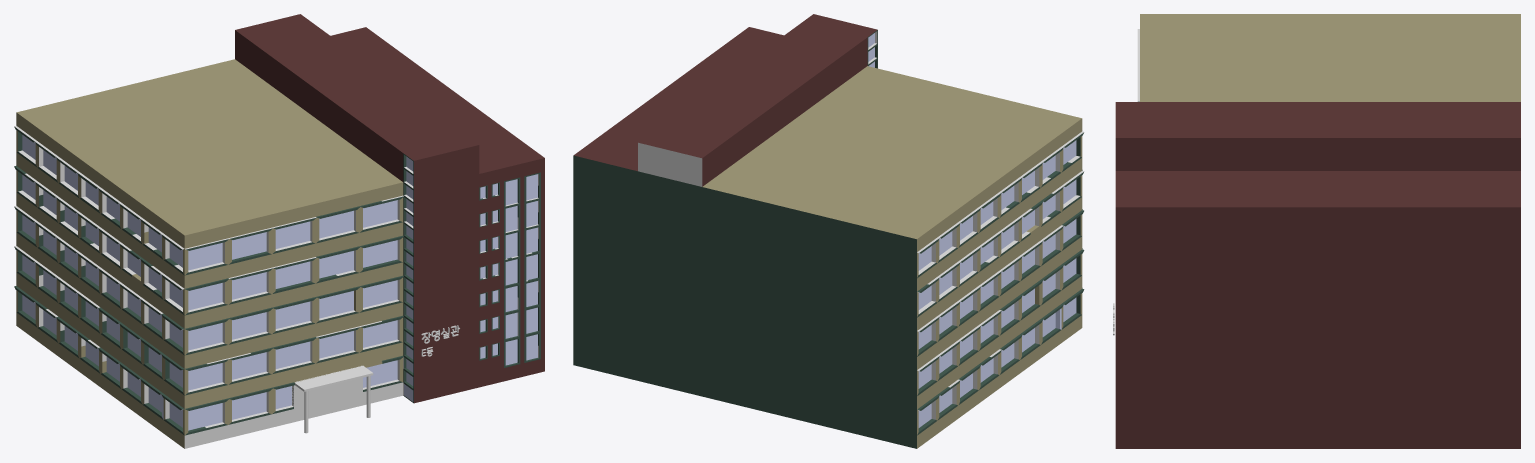
The picture shows the model from 3 angles, left to right: view 1: azimuth 30°, elevation 25°; view 2: azimuth 150°, elevation 25°; view 3: azimuth 270°, elevation 25°; orthographic projection. The views are drawn at different scales.
Visible parts, largest first — view 1: E; view 2: E; view 3: E.
Part boxes in pixels (bbox=[...]): E: bbox=[14, 14, 544, 448]; E: bbox=[573, 14, 1084, 448]; E: bbox=[1115, 14, 1520, 448].
Size of the model in its own units: 30206 by 20239 by 26758.
